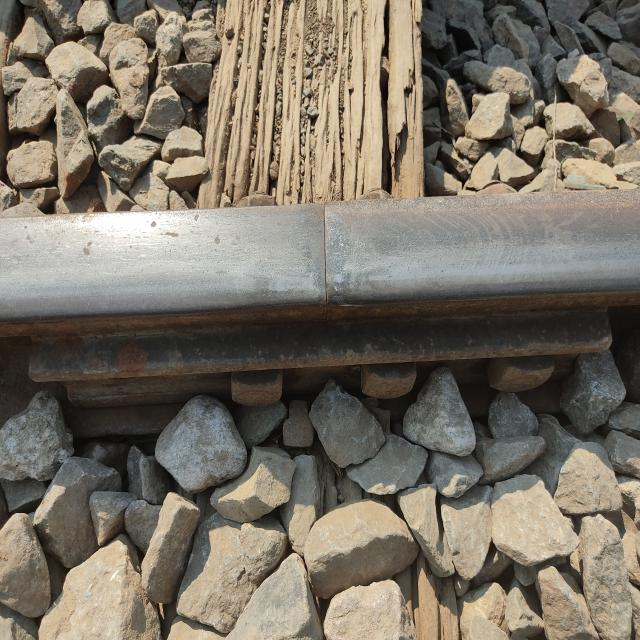Faults: (299, 203, 347, 309)
